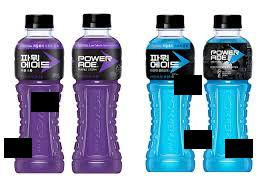powerade_mountainblast: (141, 10, 198, 175), (201, 11, 257, 172)
